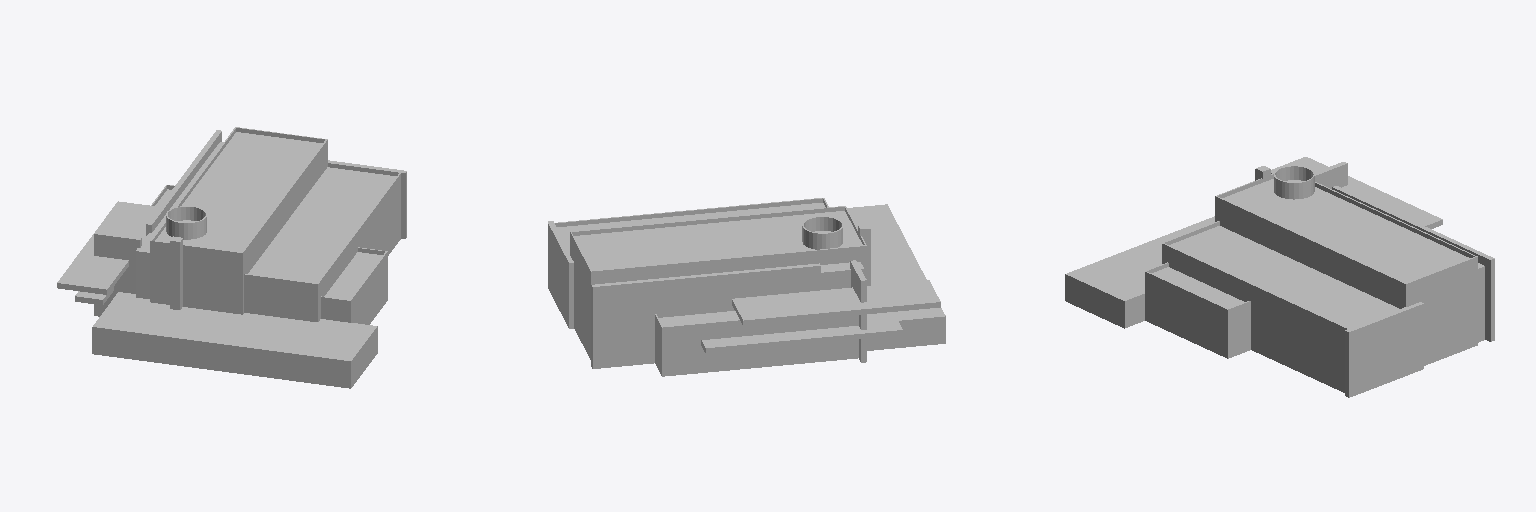
File: hospital_5.obj
3 views of the same model, side by side, from view 1: azimuth 30°, elevation 25°; view 2: azimuth 150°, elevation 25°; view 3: azimuth 270°, elevation 25° (orthographic).
Parts seen in each view (by area): view 1: object_1; view 2: object_1; view 3: object_1.
Part boxes in pixels (left/top/right/bottom): object_1: left=57, top=127, right=406, bottom=388; object_1: left=548, top=198, right=945, bottom=376; object_1: left=1065, top=157, right=1494, bottom=397.
Bounding box in the file's own units: 284 × 75 × 284.